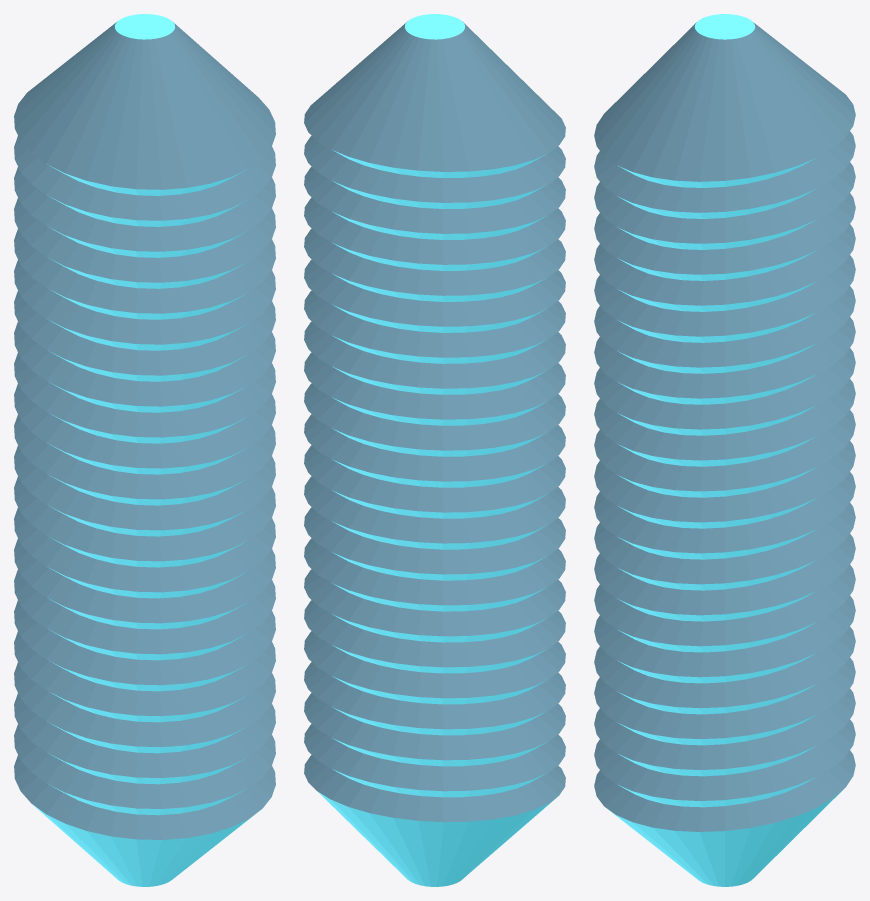
File: Obstacle01.fbx
The picture shows the model from 3 angles, left to right: view 1: azimuth 30°, elevation 25°; view 2: azimuth 150°, elevation 25°; view 3: azimuth 270°, elevation 25°; orthographic projection.
Parts seen in each view (by area): view 1: Cylinder; view 2: Cylinder; view 3: Cylinder.
Boxes of the visible parts, left/top/right/bottom form: Cylinder: left=14, top=14, right=275, bottom=886; Cylinder: left=304, top=14, right=565, bottom=886; Cylinder: left=594, top=14, right=855, bottom=886.
Bounding box in the file's own units: 200 × 712 × 199.
